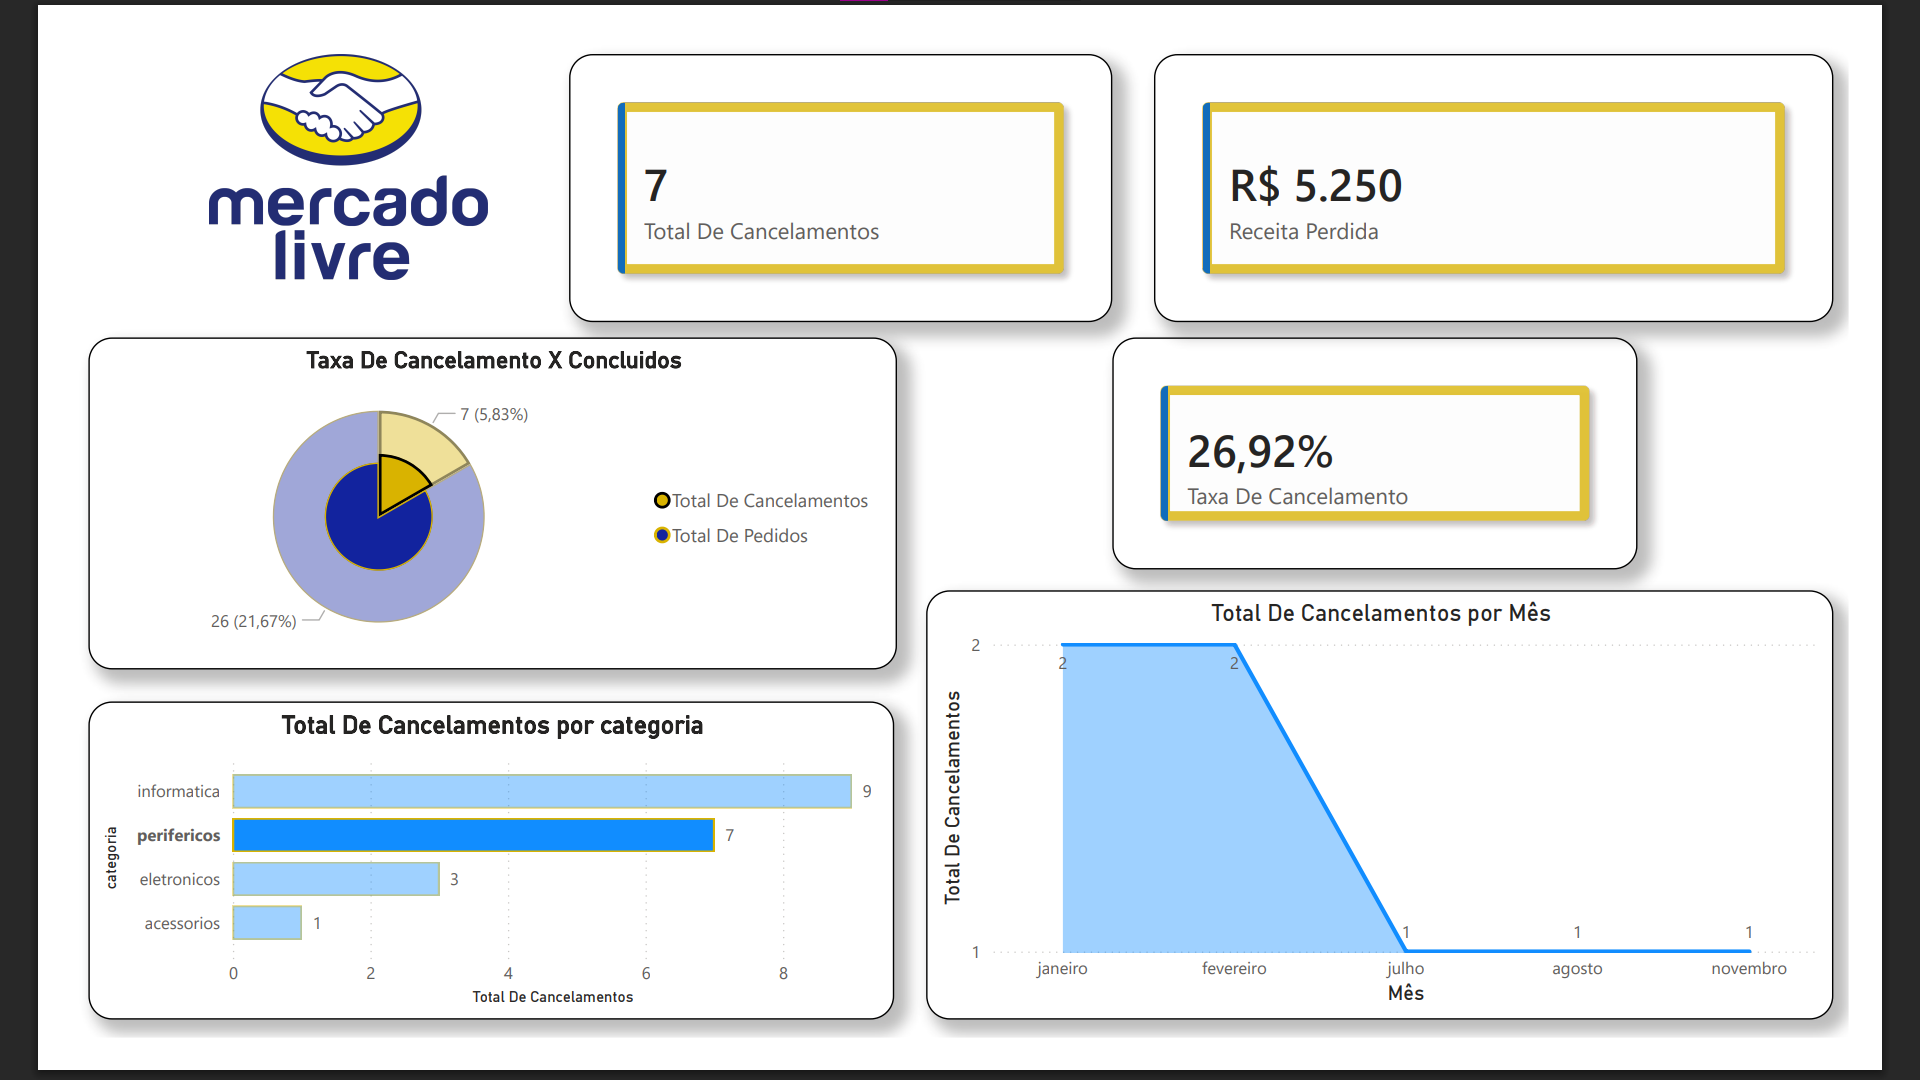

What the dashboard file says about the page in this screenshot:
{"tool":"powerbi","page":{"name":"Página 1","canvas":[1280,720],"ordinal":0},"visuals":[{"type":"barChart","fields":{"Category":["produtos.categoria"],"Y":["pedidos.Cancelamentos"]},"box":[12.6,477.6,580,229.8],"z":0},{"type":"cardVisual","fields":{"Data":["pedidos.Cancelamentos"]},"box":[359.1,11.7,390.5,193],"z":1},{"type":"pieChart","title":"Taxa De Cancelamento X Concluidos","fields":{"Y":["pedidos.Total De Cancelamentos","pedidos.Total De Pedidos"]},"box":[12.6,216.4,582.6,238.8],"z":2},{"type":"cardVisual","fields":{"Data":["pedidos.Taxa De Cancelamento"]},"box":[749.6,216.4,378.9,167],"z":3},{"type":"cardVisual","title":"Receita Perdida","fields":{"Data":["pedidos.Impacto Financeiro"]},"box":[780.1,11.7,488.4,193],"z":4},{"type":"lineChart","fields":{"Category":["pedidos.data_pedido.Variation.Hierarquia de datas.Ano","pedidos.data_pedido.Variation.Hierarquia de datas.Trimestre","pedidos.data_pedido.Variation.Hierarquia de datas.Mês","pedidos.data_pedido.Variation.Hierarquia de datas.Dia"],"Y":["pedidos.Cancelamentos"]},"box":[615.9,397.7,652.7,309.7],"z":5},{"type":"image","box":[0,11.7,400.4,162.5],"z":6}]}

Visuals, with their boxes in screenshot pixels (x1, y1, x2, y2), scaled from the page's 1280x720 canvas onto the 1920x1080 screenshot:
barChart - produtos.categoria x pedidos.Cancelamentos: <region>19, 716, 889, 1061</region>
cardVisual - pedidos.Cancelamentos: <region>539, 18, 1124, 307</region>
"Taxa De Cancelamento X Concluidos" pieChart: <region>19, 325, 893, 683</region>
cardVisual - pedidos.Taxa De Cancelamento: <region>1124, 325, 1693, 575</region>
"Receita Perdida" cardVisual: <region>1170, 18, 1903, 307</region>
lineChart - pedidos.data_pedido.Variation.Hierarquia de datas.Ano x pedidos.data_pedido.Variation.Hierarquia de datas.Trimestre: <region>924, 597, 1903, 1061</region>
image: <region>0, 18, 601, 261</region>
